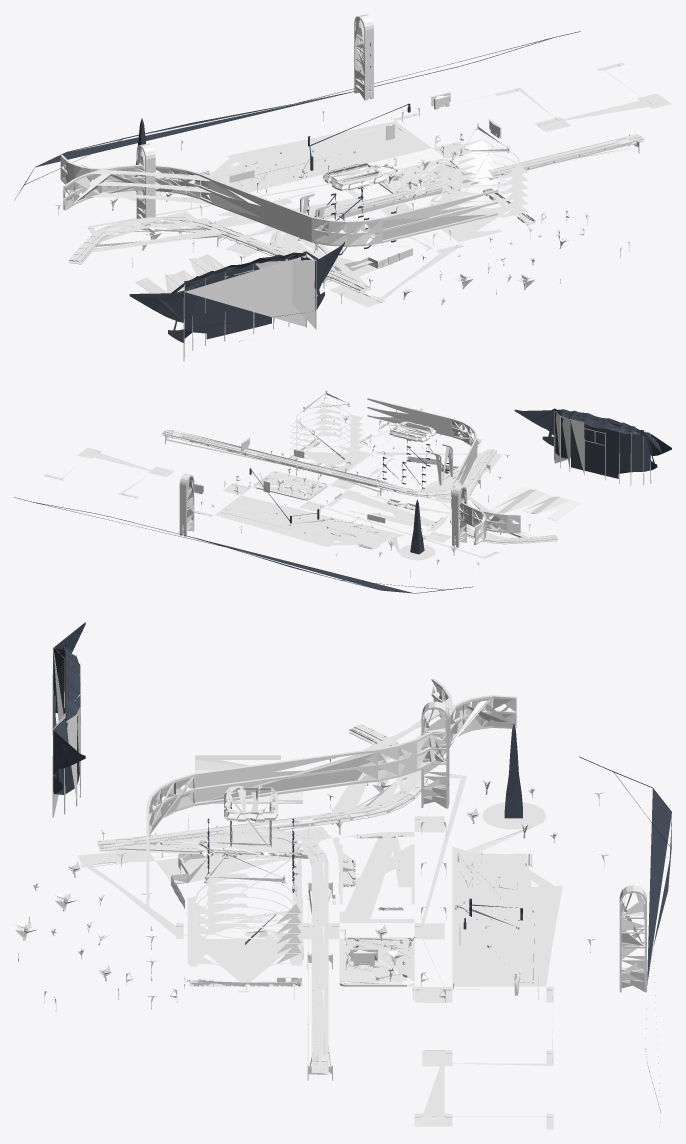
File: street_island2_05.glb
3 views of the same model, one above another, from view 1: azimuth 30°, elevation 25°; view 2: azimuth 150°, elevation 25°; view 3: azimuth 270°, elevation 25° (orthographic). The views are drawn at different scales.
Visible parts, largest first — view 1: seg_960, seg_424, seg_933, seg_450, seg_366, seg_399, seg_1015, seg_827, seg_788, seg_962, seg_395, seg_820 (+12 smaller); view 2: seg_933, seg_424, seg_960, seg_366, seg_399, seg_448, seg_1015, seg_450, seg_364, seg_788, seg_820, seg_428 (+14 smaller); view 3: seg_424, seg_960, seg_366, seg_399, seg_364, seg_818, seg_933, seg_428, seg_829, seg_1015, seg_962, seg_395 (+11 smaller).
Part boxes in pixels (x1=…): seg_960: x1=60, y1=155, x2=497, y2=246; seg_424: x1=117, y1=121, x2=431, y2=200; seg_933: x1=129, y1=242, x2=344, y2=342; seg_450: x1=183, y1=255, x2=316, y2=361; seg_366: x1=441, y1=139, x2=534, y2=242; seg_399: x1=87, y1=62, x2=671, y2=234; seg_1015: x1=14, y1=31, x2=580, y2=200; seg_827: x1=69, y1=217, x2=232, y2=264; seg_788: x1=307, y1=134, x2=644, y2=217; seg_962: x1=354, y1=14, x2=373, y2=100; seg_395: x1=225, y1=203, x2=463, y2=307; seg_820: x1=309, y1=134, x2=643, y2=219; seg_933: x1=514, y1=408, x2=671, y2=478; seg_424: x1=214, y1=495, x2=435, y2=560; seg_960: x1=367, y1=398, x2=520, y2=545; seg_366: x1=289, y1=402, x2=371, y2=472; seg_399: x1=44, y1=447, x2=499, y2=558; seg_448: x1=490, y1=486, x2=579, y2=521; seg_1015: x1=14, y1=497, x2=473, y2=593; seg_450: x1=554, y1=410, x2=651, y2=485; seg_364: x1=327, y1=490, x2=449, y2=531; seg_788: x1=162, y1=429, x2=409, y2=492; seg_820: x1=162, y1=430, x2=409, y2=494; seg_428: x1=254, y1=471, x2=327, y2=500; seg_424: x1=452, y1=808, x2=562, y2=986; seg_960: x1=146, y1=678, x2=516, y2=909; seg_366: x1=187, y1=873, x2=302, y2=986; seg_399: x1=414, y1=771, x2=553, y2=1129; seg_364: x1=332, y1=832, x2=414, y2=922; seg_818: x1=97, y1=813, x2=332, y2=862; seg_933: x1=53, y1=622, x2=85, y2=794; seg_428: x1=339, y1=937, x2=414, y2=986; seg_829: x1=97, y1=814, x2=333, y2=865; seg_1015: x1=579, y1=756, x2=671, y2=1126; seg_962: x1=619, y1=885, x2=646, y2=992; seg_395: x1=77, y1=826, x2=339, y2=939.
Bounding box in the file's own units: 529 × 61.45 × 350.
